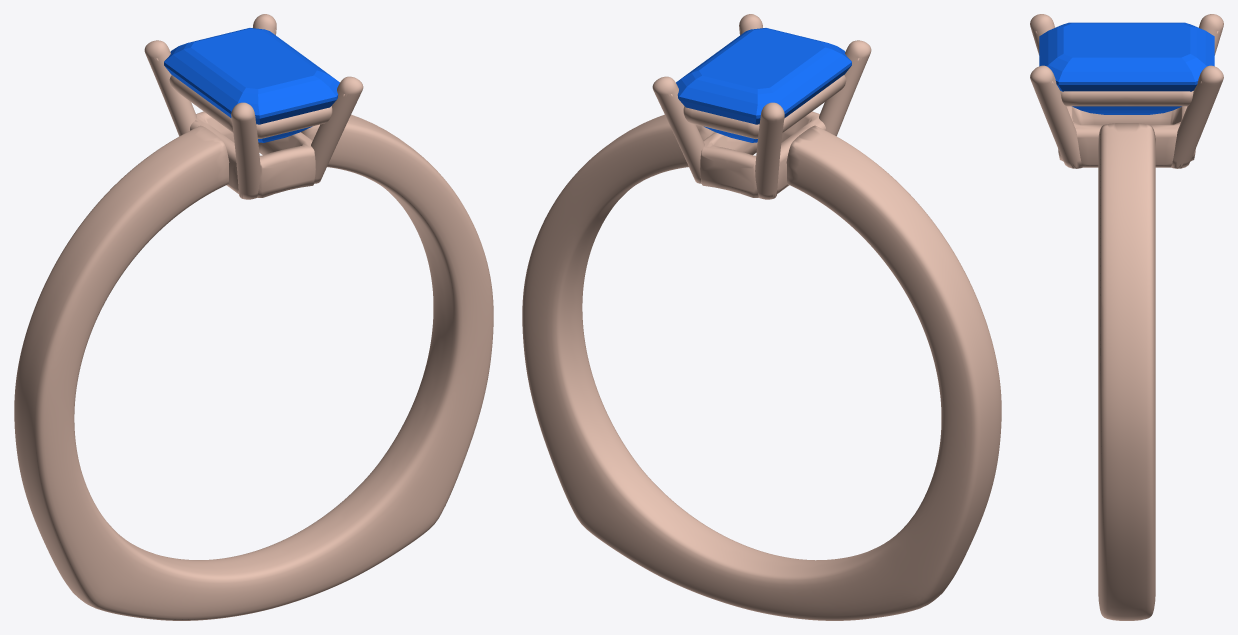
File: bluesapphire-emerald-rosegold-4prong-europeanshank-solitaire.glb
3 renders of one model, left to right at view 1: azimuth 30°, elevation 25°; view 2: azimuth 150°, elevation 25°; view 3: azimuth 270°, elevation 25°, orthographic.
Visible parts, largest first — view 1: metal, stone; view 2: metal, stone; view 3: metal, stone.
Part boxes in pixels (x1=…): metal: x1=14, y1=14, x2=493, y2=620; stone: x1=164, y1=28, x2=339, y2=142; metal: x1=522, y1=14, x2=1001, y2=620; stone: x1=676, y1=28, x2=851, y2=142; metal: x1=1030, y1=14, x2=1223, y2=620; stone: x1=1039, y1=22, x2=1214, y2=114.
Bounding box in the file's own units: 20.1 × 22.75 × 7.4.
